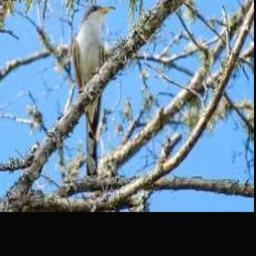Cuckoo: (72, 5, 114, 182)
